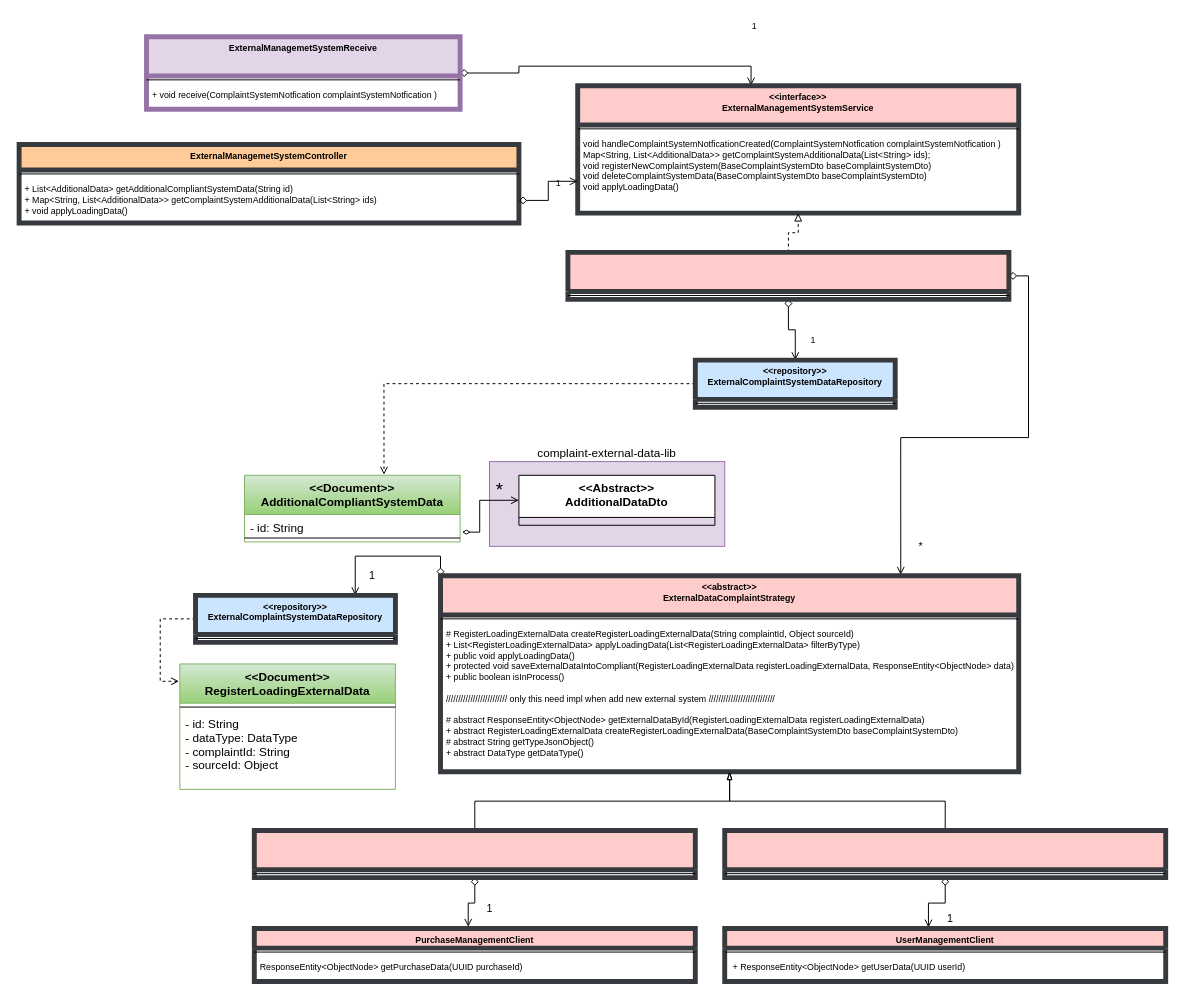
Image size: 1185x1001. Some labels were removed from this diagram. Each missing label, with the centre of its shape:
ExternalManagemetSystemServiceImpl: pixel 788 275
PurchaseDataCompliantStrategy: pixel 474 854
UserDataCompliantStrategy: pixel 945 854
